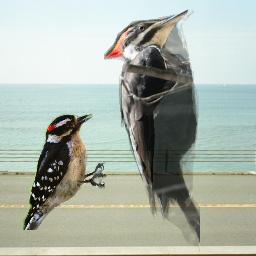Woodpecker: (104, 9, 200, 252), (23, 113, 107, 230)
